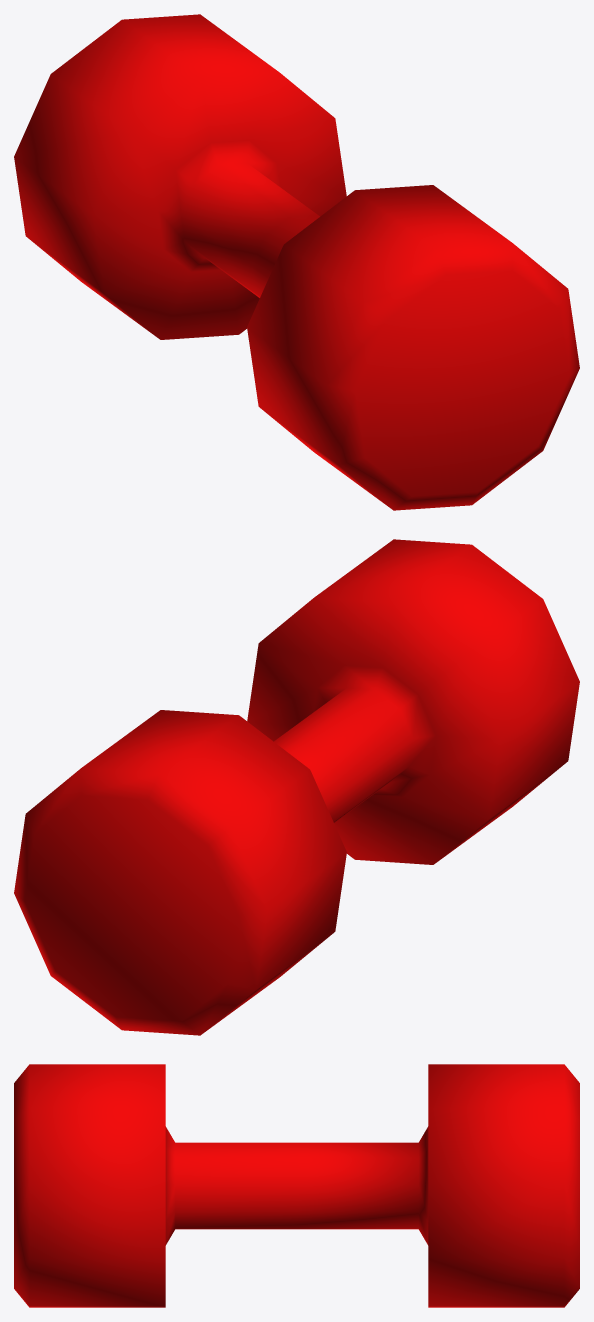
Rendered from ColorfulDumbbells.002.fbx.
The picture shows the model from 3 angles, top to bottom: view 1: azimuth 30°, elevation 25°; view 2: azimuth 150°, elevation 25°; view 3: azimuth 270°, elevation 25°; orthographic projection. The views are drawn at different scales.
Visible parts, largest first — view 1: ColurfulDumbbells.003; view 2: ColurfulDumbbells.003; view 3: ColurfulDumbbells.003.
Part boxes in pixels (x1,y1,x2,y2): ColurfulDumbbells.003: [14, 14, 579, 510]; ColurfulDumbbells.003: [14, 539, 579, 1035]; ColurfulDumbbells.003: [14, 1064, 579, 1307].
Size of the model in its own units: 5 by 5.02 by 11.29.
